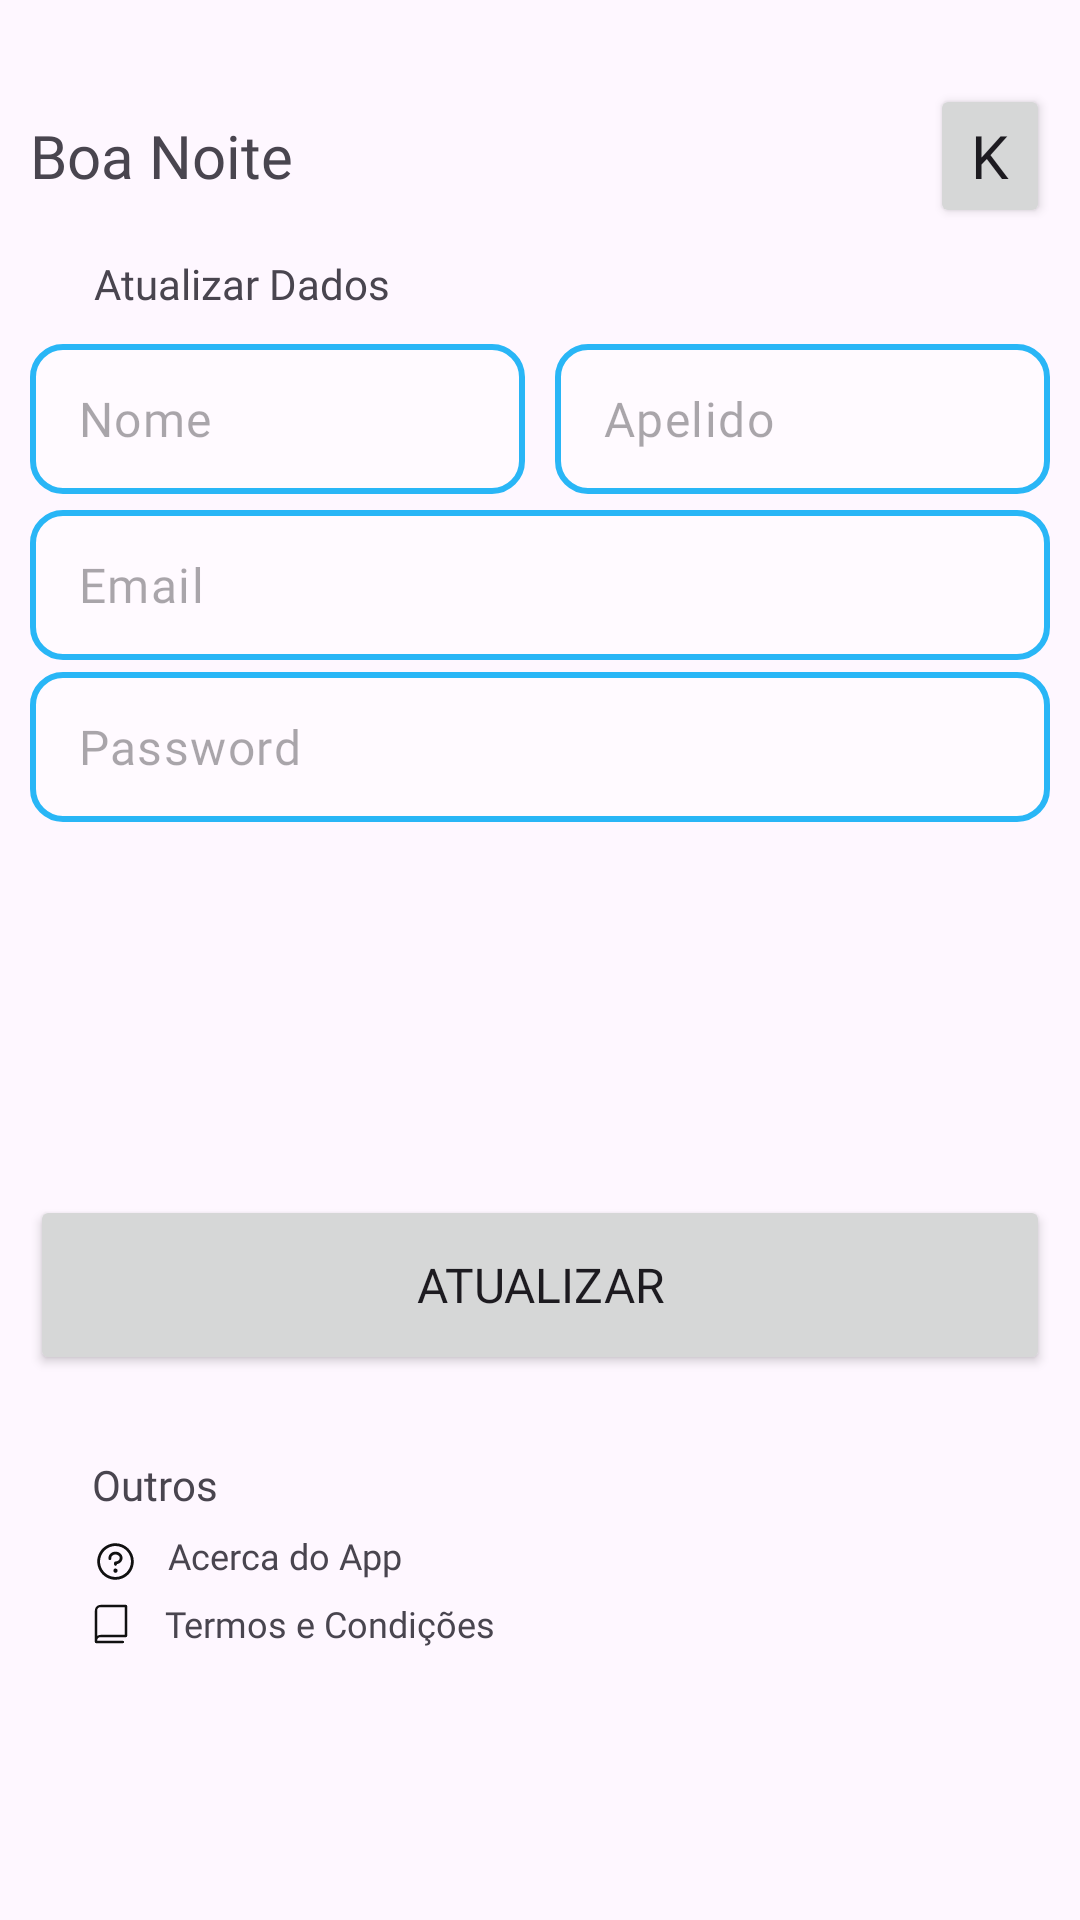

Named icons in this screenshot (1080 x 1920) and their centers, point (x, y):
book: point (111, 1624)
question: point (115, 1561)
